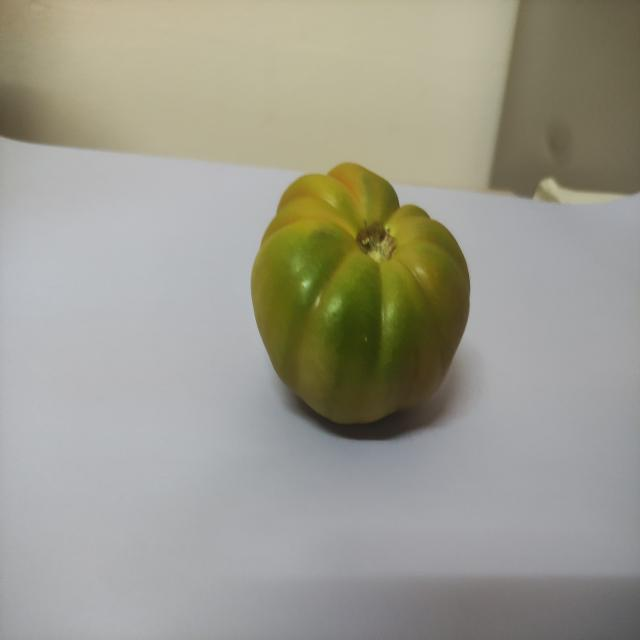yesil: (244, 147, 490, 437)
